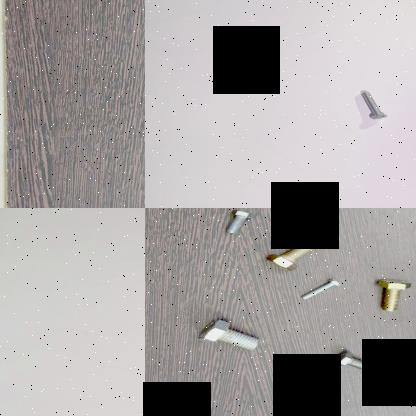Bolts: (263, 230, 329, 276), (199, 316, 263, 352), (370, 277, 414, 316), (292, 275, 342, 306), (219, 208, 260, 241), (331, 349, 381, 376), (354, 89, 388, 123)
